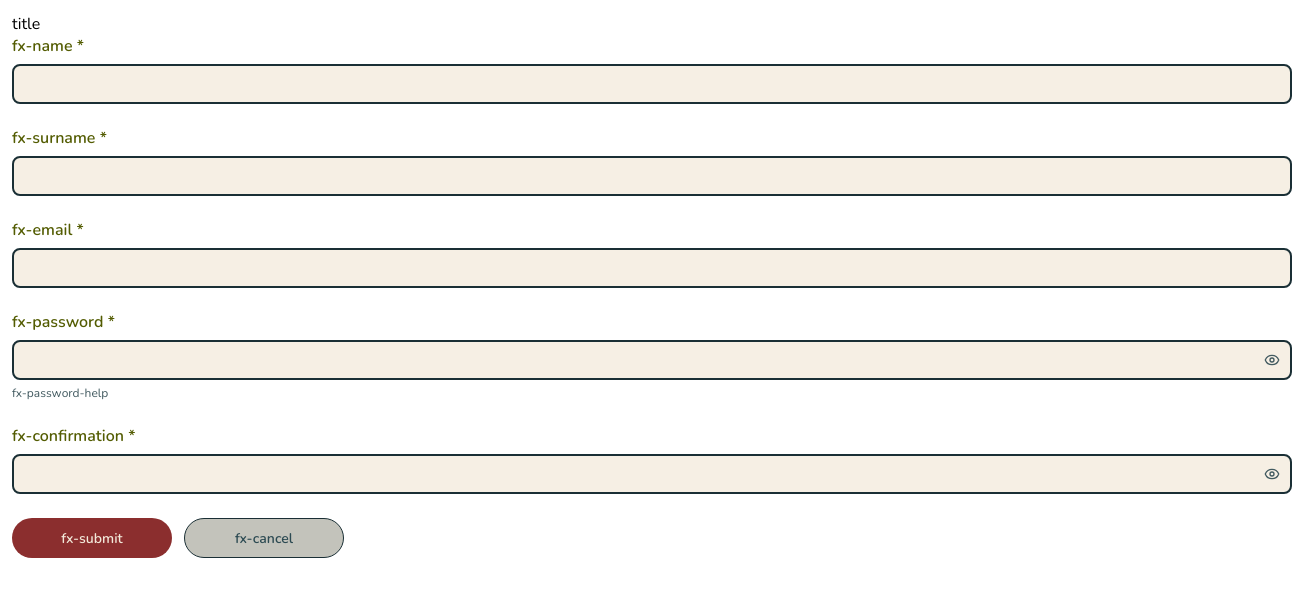
RegisterForm — client checks › an invalid email shows emailFormatError, is invalid, takes focus and nothing is sent
The width and height of the screenshot is (1304, 600).
Type "Ana" into the field labelled "fx-name *" at (652, 84), box [12, 64, 1292, 104]
Type "López" into the field labelled "fx-surname *" at (652, 176), box [12, 156, 1292, 196]
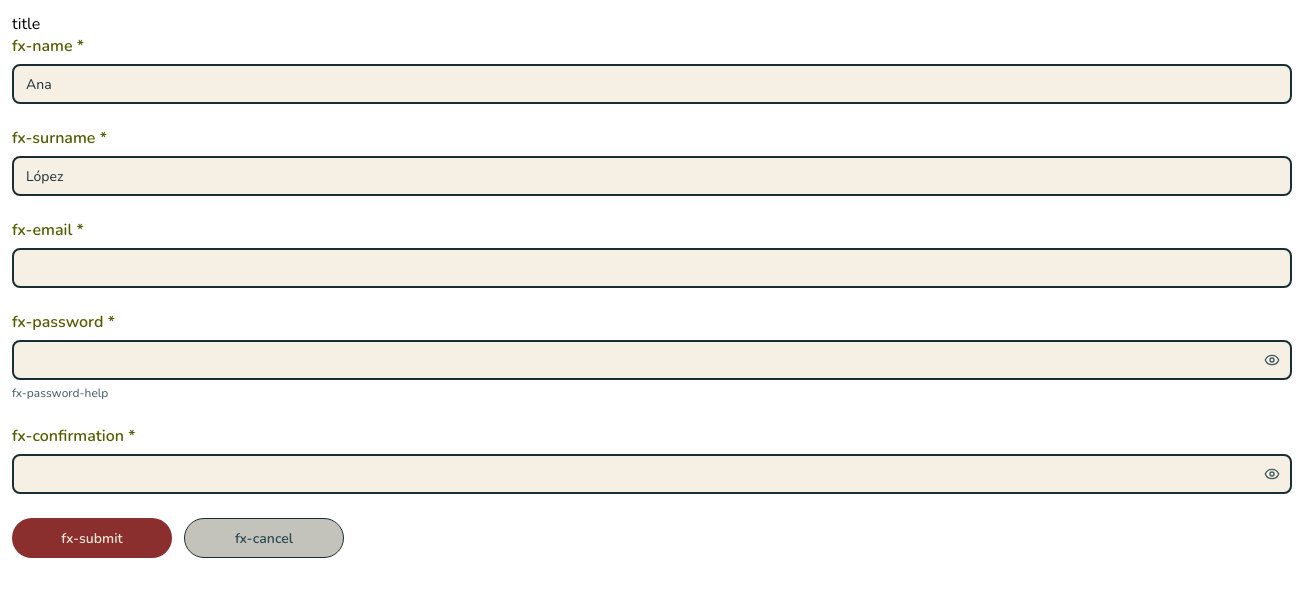
Type "ana@example.com" into the field labelled "fx-email *" at (652, 268), box [12, 248, 1292, 288]
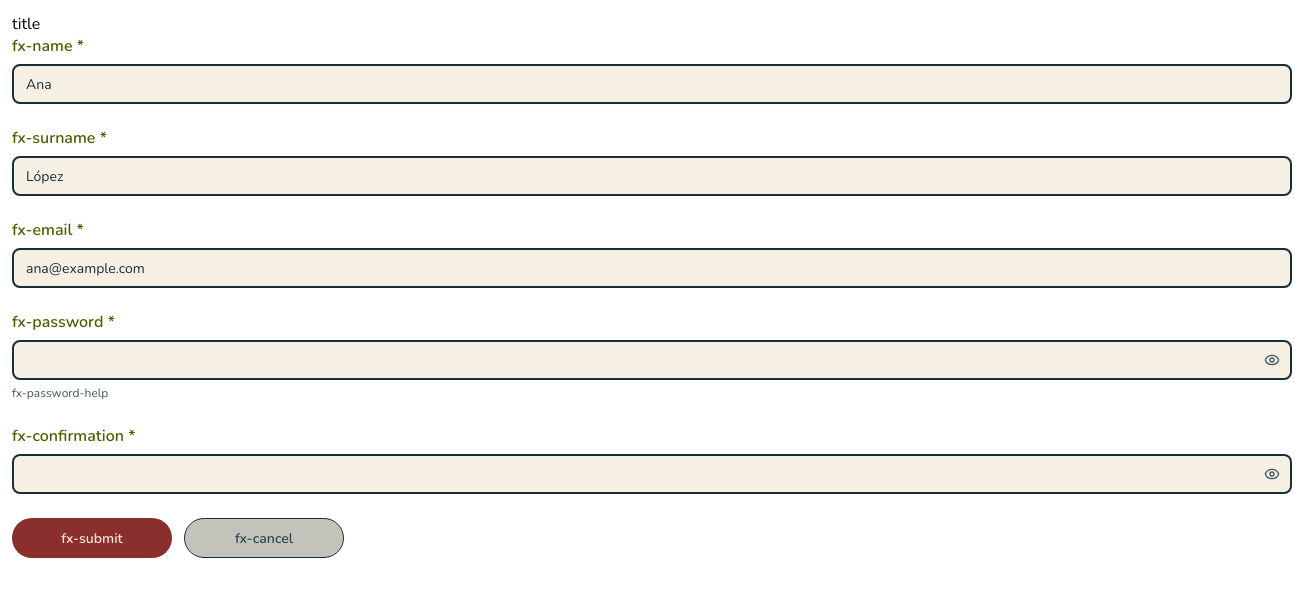
Type "Secret123" into the password field labelled "fx-password *" at (652, 360), box [12, 340, 1292, 380]
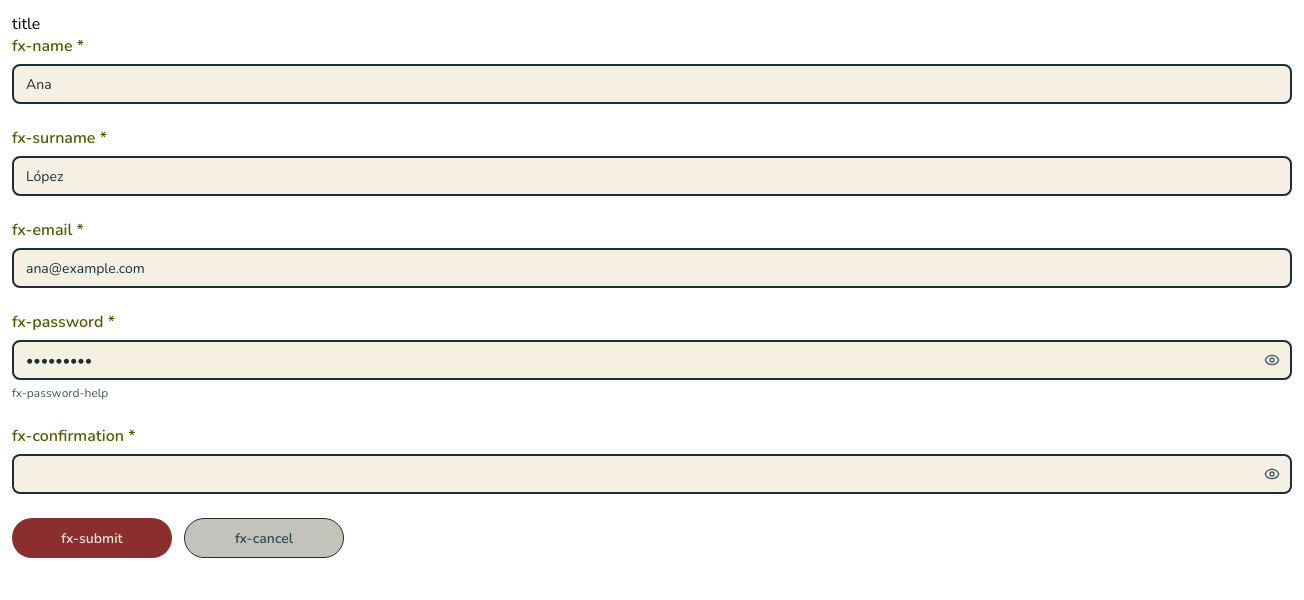
Type "Secret123" into the password field labelled "fx-confirmation *" at (652, 474), box [12, 454, 1292, 494]
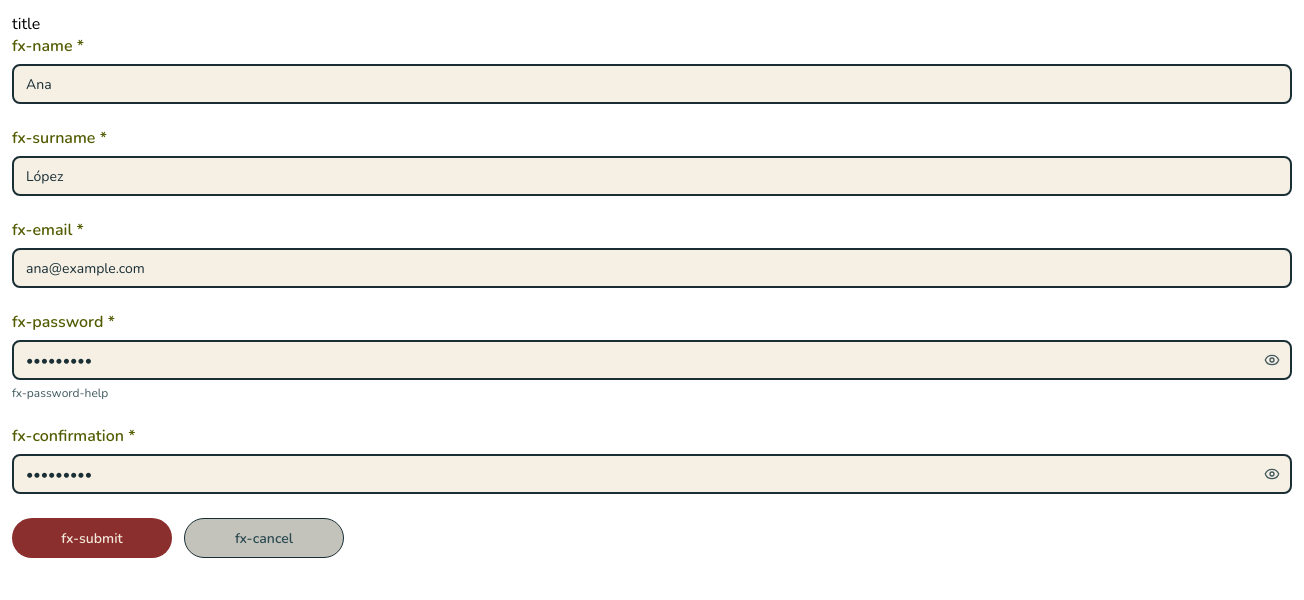
Replace the text in the field labelled "fx-email *" with "not-an-email" at (652, 268), box [12, 248, 1292, 288]
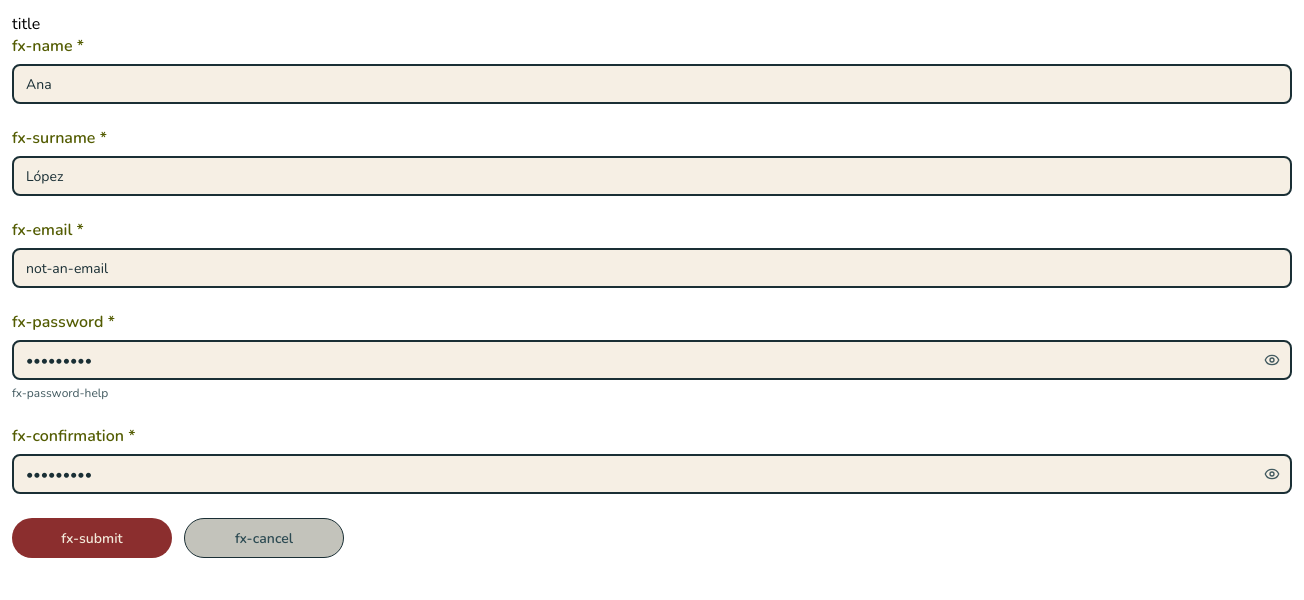
Click the button "fx-submit" at (92, 538), box [12, 518, 172, 558]
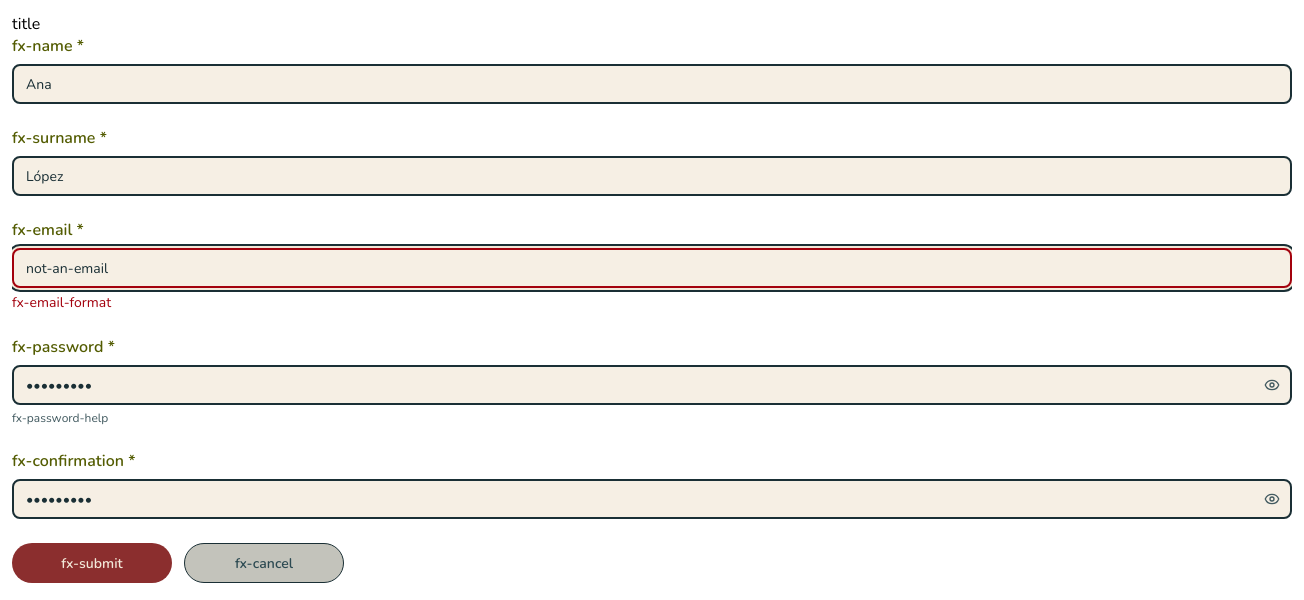
Expected: the text "fx-email-format" is shown, [12, 293, 111, 312]
